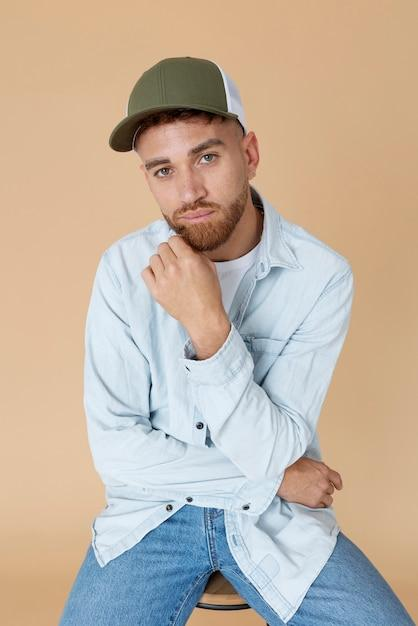cap: (87, 43, 275, 163)
